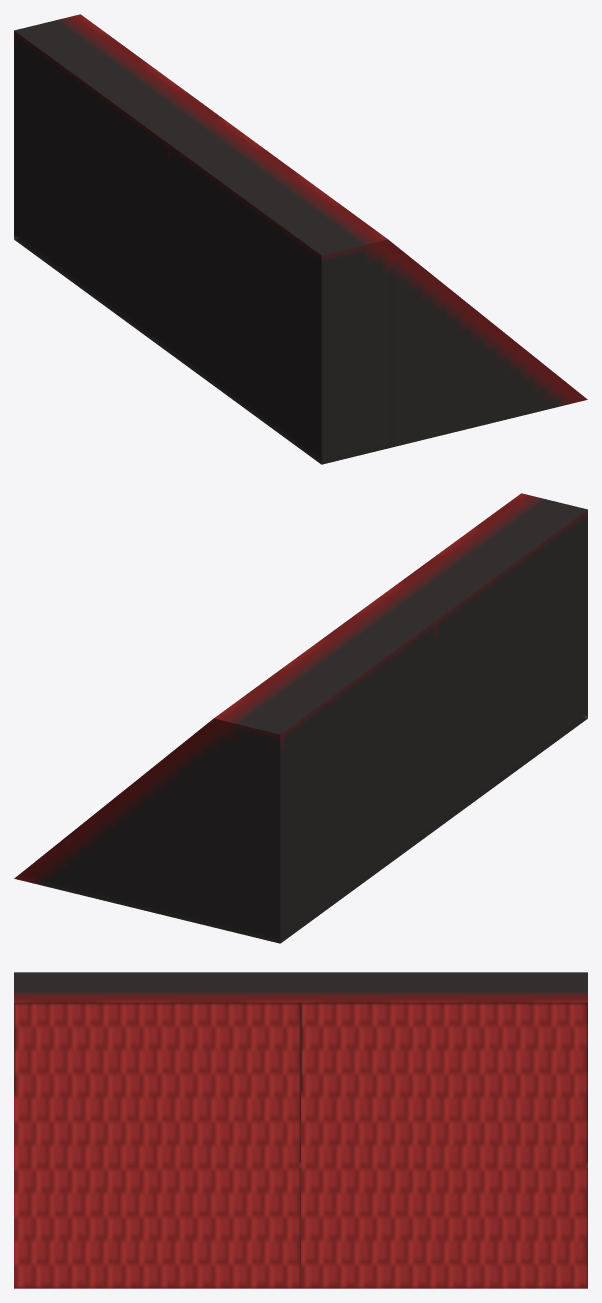
File: Roof_x2.glb
The picture shows the model from 3 angles, top to bottom: view 1: azimuth 30°, elevation 25°; view 2: azimuth 150°, elevation 25°; view 3: azimuth 270°, elevation 25°; orthographic projection. The views are drawn at different scales.
Parts seen in each view (by area): view 1: Roof_x2; view 2: Roof_x2; view 3: Roof_x2.
Part boxes in pixels (x1=…): Roof_x2: x1=14, y1=14, x2=587, y2=464; Roof_x2: x1=14, y1=493, x2=587, y2=943; Roof_x2: x1=14, y1=972, x2=587, y2=1288.
Bounding box in the file's own units: 4 × 3 × 8.
Materials: 1 (1 with a texture image).
